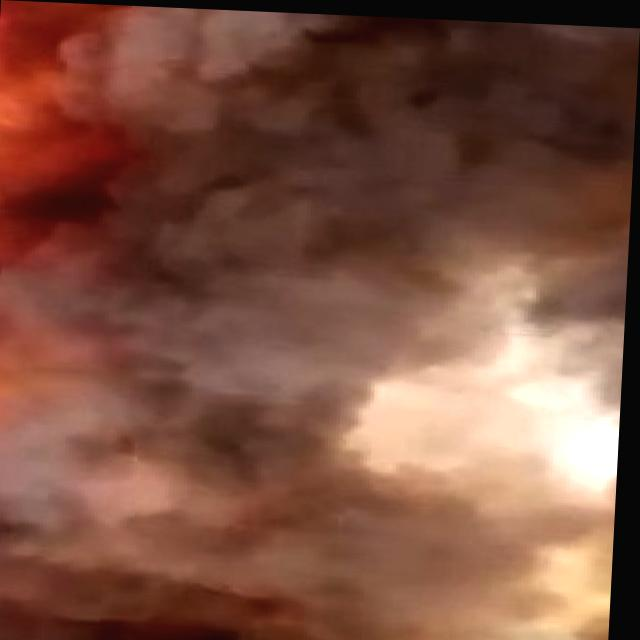smoke: (32, 2, 640, 640)
